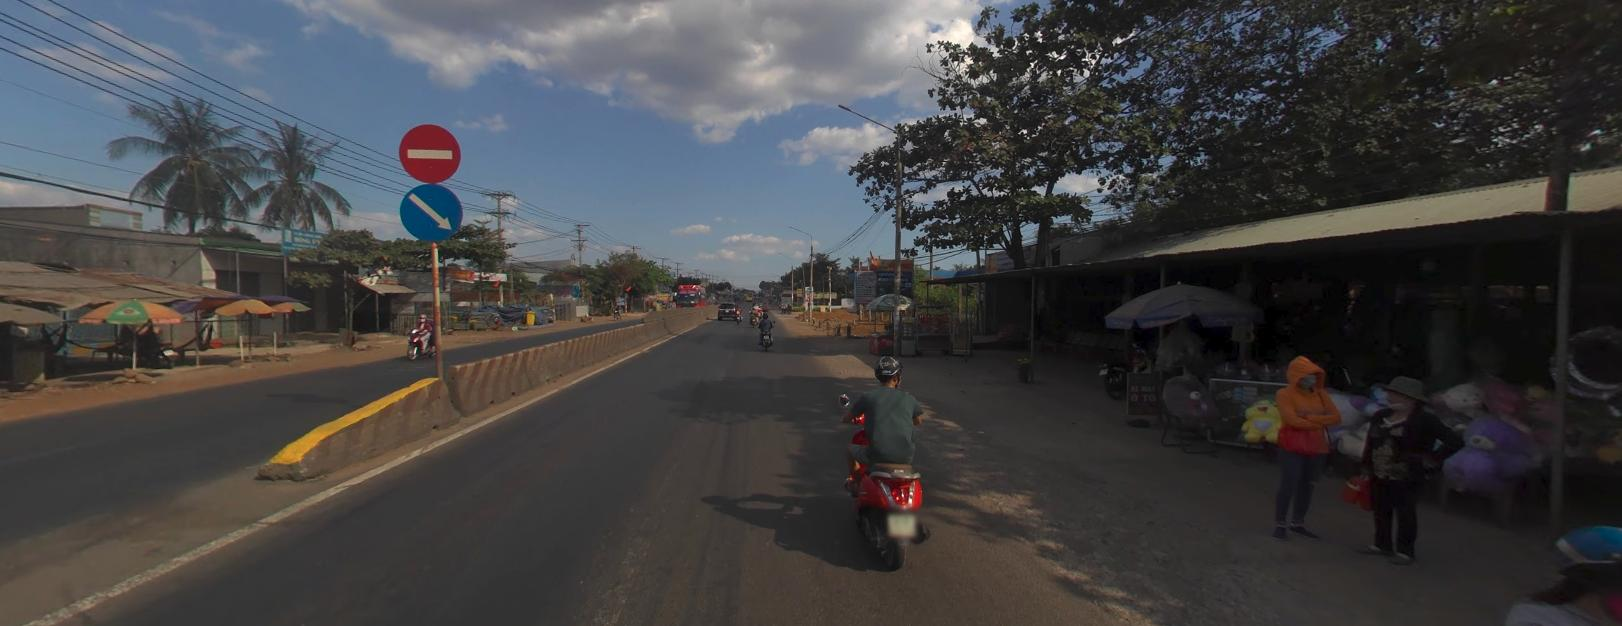Cam nguoc chieu: (398, 123, 461, 182)
Hieu lenh: (398, 182, 463, 240)
